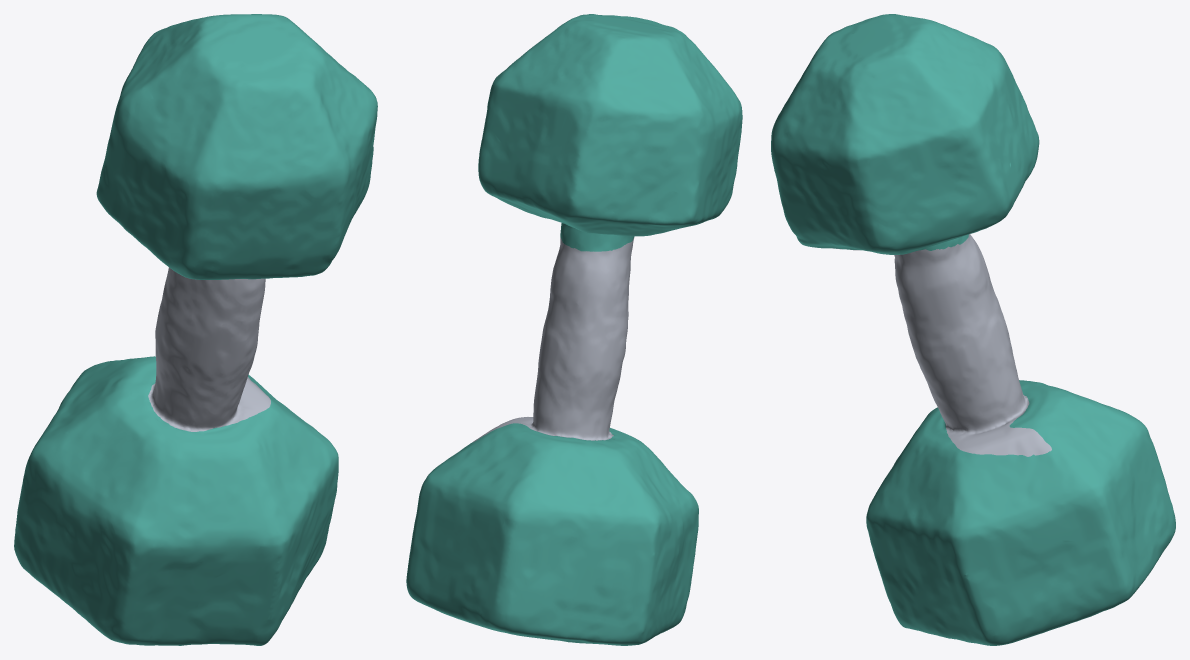
Rendered from Stack 4A - Dumbbell.glb.
3 views of the same model, side by side, from view 1: azimuth 30°, elevation 25°; view 2: azimuth 150°, elevation 25°; view 3: azimuth 270°, elevation 25° (orthographic). The views are drawn at different scales.
Parts seen in each view (by area): view 1: Stack 4A - Dumbbell · mesh; view 2: Stack 4A - Dumbbell · mesh; view 3: Stack 4A - Dumbbell · mesh.
Boxes of the visible parts, box(x1,y1,x2,y2) form: Stack 4A - Dumbbell · mesh: box(14, 14, 377, 645); Stack 4A - Dumbbell · mesh: box(406, 14, 742, 645); Stack 4A - Dumbbell · mesh: box(771, 14, 1175, 645).
Size of the model in its own units: 0.438 by 1 by 0.624.
